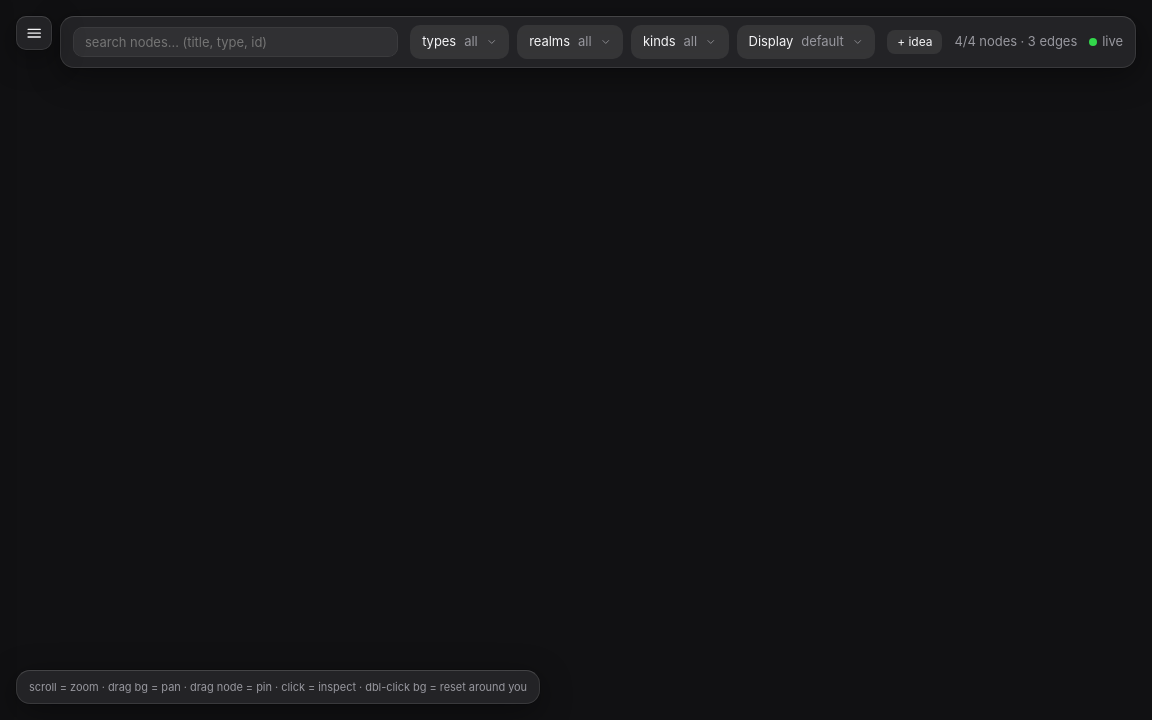
Scenario: the app shell › reaches the People section, which the drawer now carries
The width and height of the screenshot is (1152, 720).
expect the text "4/4 nodes · 3 edges" is shown: met, box [954,32,1077,52]
Click the button named "sections" at (34,33), box [16,16,52,50]
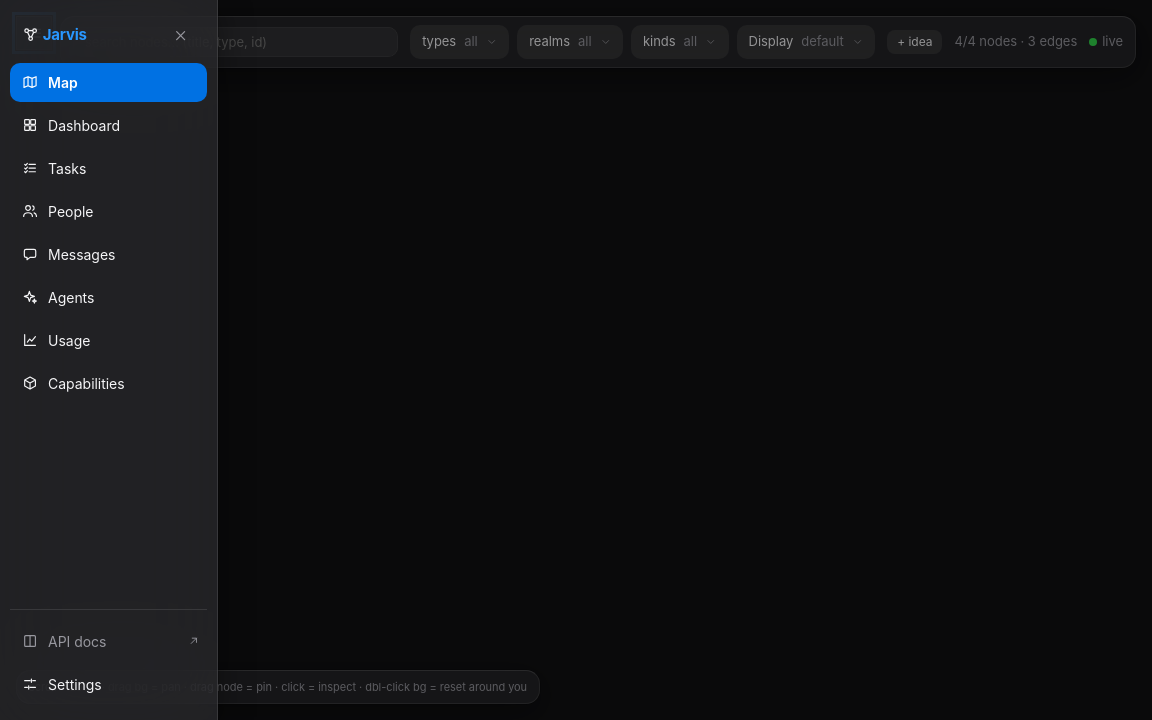
Click the link "People" at (58,211), box [22,202,93,220]
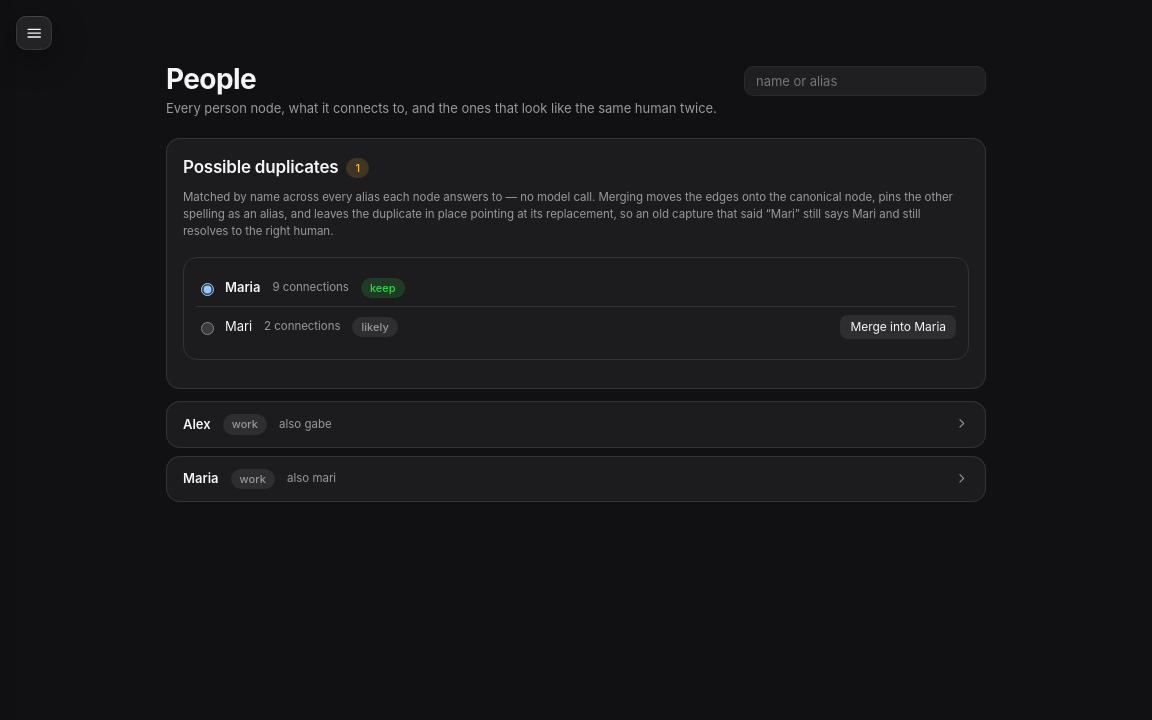
expect the heading "People" is shown: met, box [166,64,256,95]
